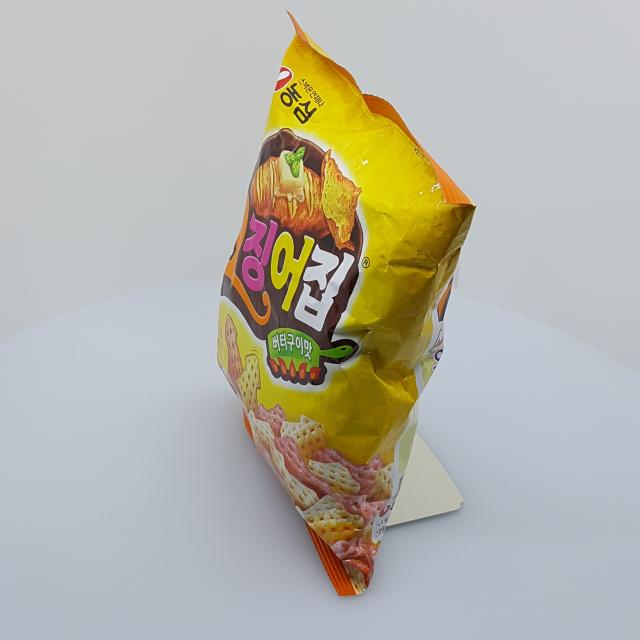-83G: (218, 10, 478, 597)
